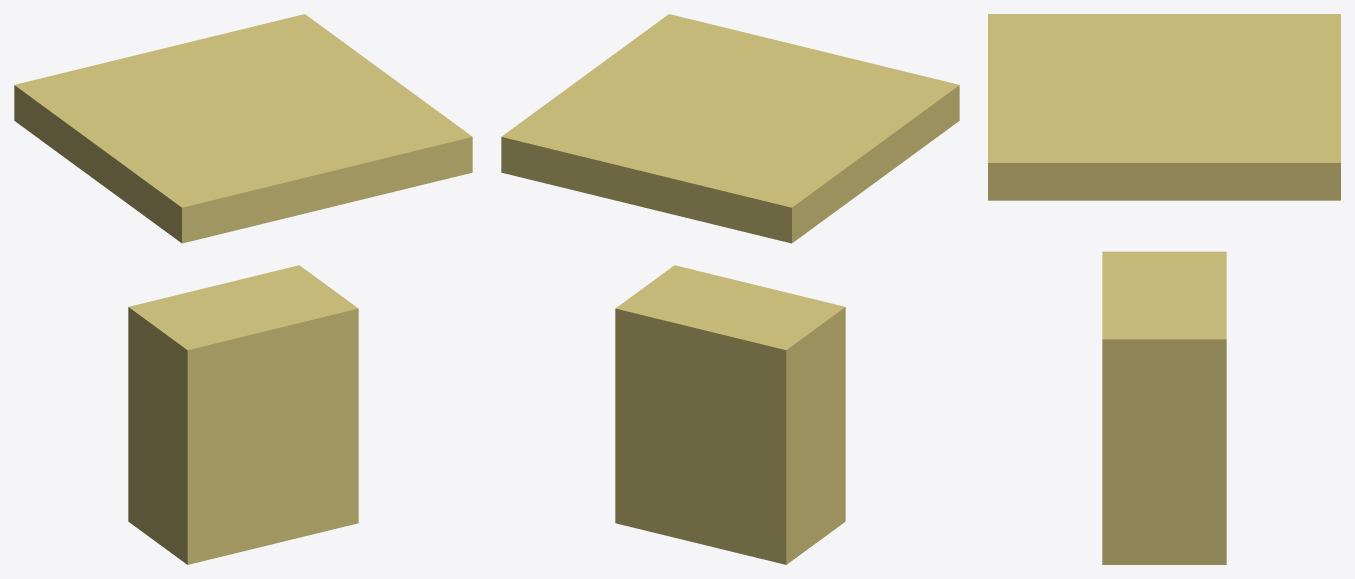
The model's file is amulet_legacy.glb.
3 renders of one model, left to right at view 1: azimuth 30°, elevation 25°; view 2: azimuth 150°, elevation 25°; view 3: azimuth 270°, elevation 25°, orthographic. The views are drawn at different scales.
Parts seen in each view (by area): view 1: amulet_chain, amulet_gem; view 2: amulet_chain, amulet_gem; view 3: amulet_chain, amulet_gem.
Boxes of the visible parts, left/top/right/bottom form: amulet_chain: left=14, top=14, right=472, bottom=243; amulet_gem: left=128, top=265, right=358, bottom=564; amulet_chain: left=501, top=14, right=959, bottom=243; amulet_gem: left=615, top=265, right=845, bottom=564; amulet_chain: left=988, top=14, right=1340, bottom=200; amulet_gem: left=1102, top=251, right=1226, bottom=564.
Bounding box in the file's own units: 0.34 × 0.46 × 0.34.
